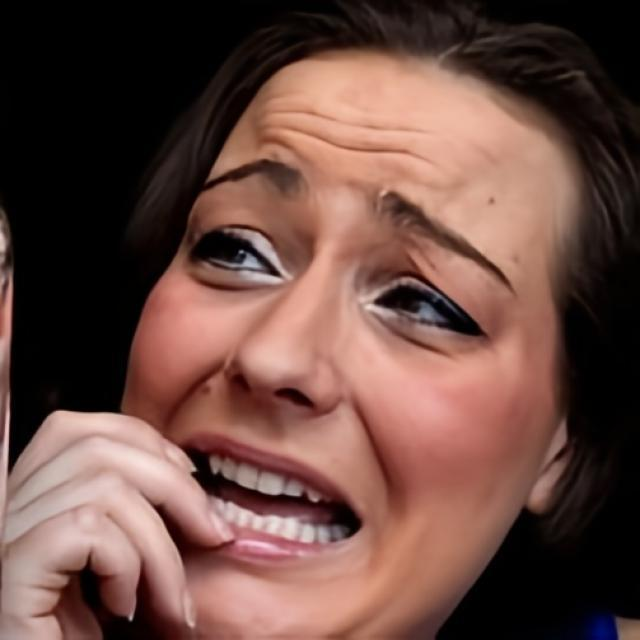fear: (118, 41, 583, 640)
